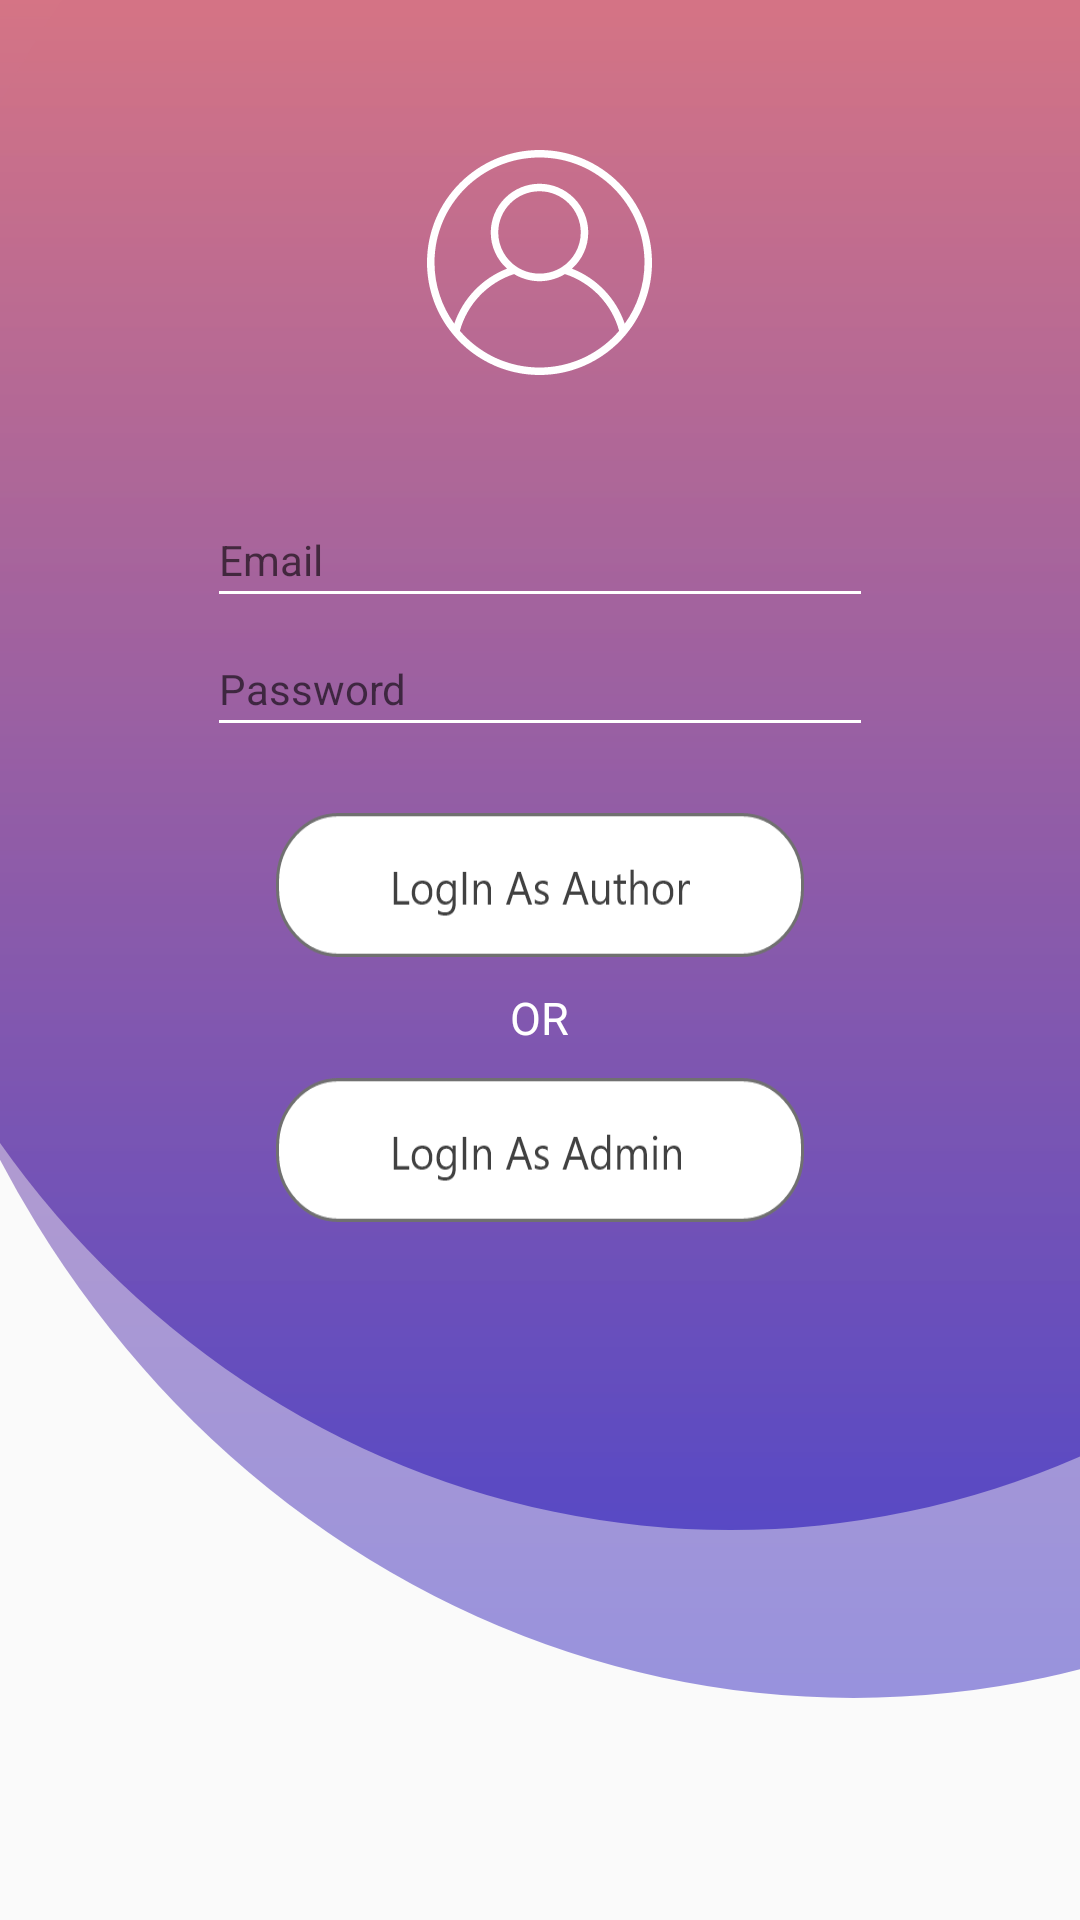

Where icons sit on this 1080w x 1920h app screen, as box(x1, y1, x2, y2):
user: box(427, 150, 652, 375)
